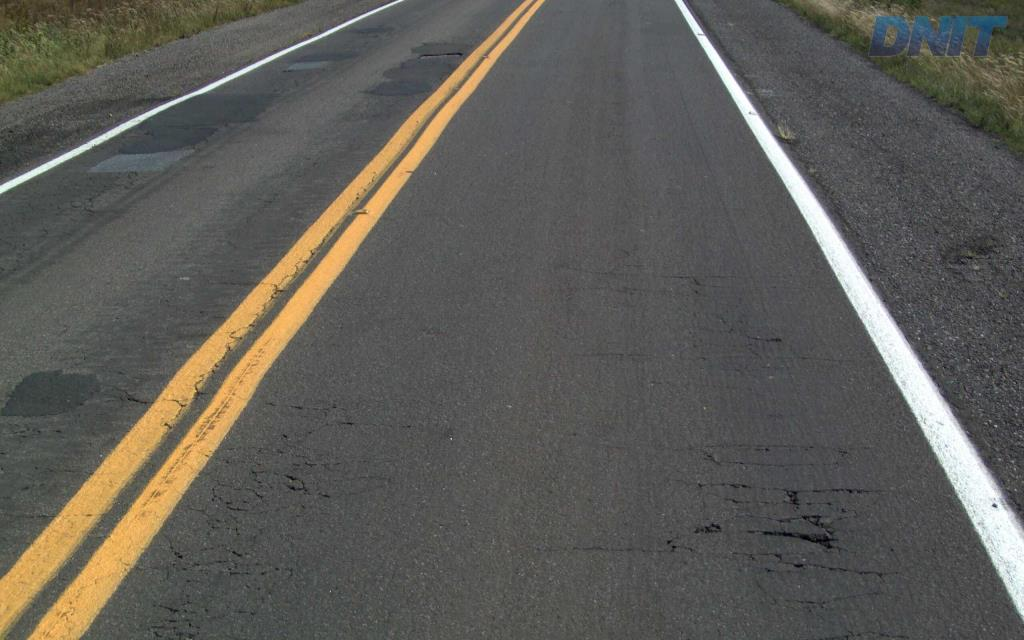crack: (746, 512, 848, 554)
